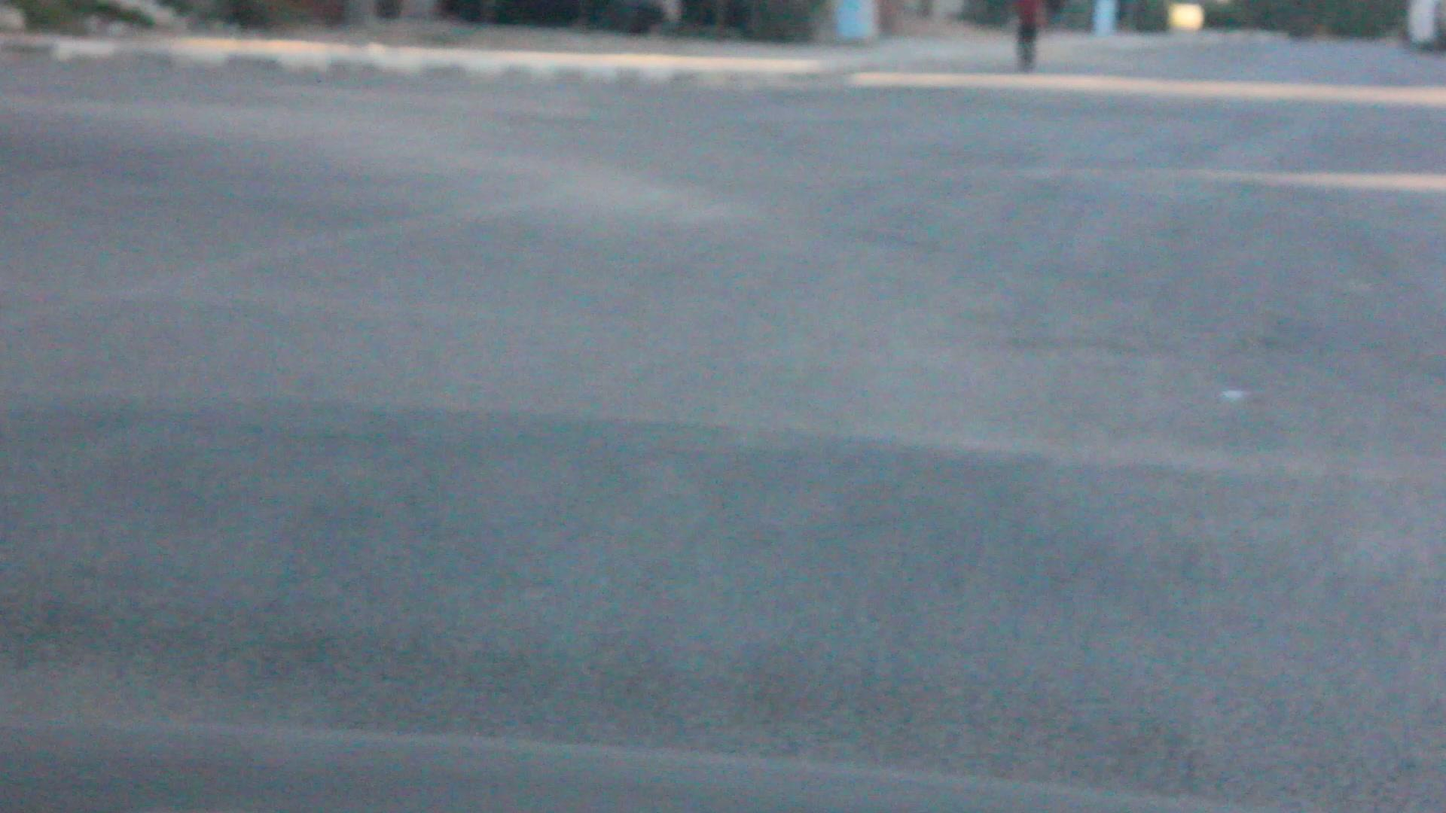Bump: (26, 386, 1446, 676)
